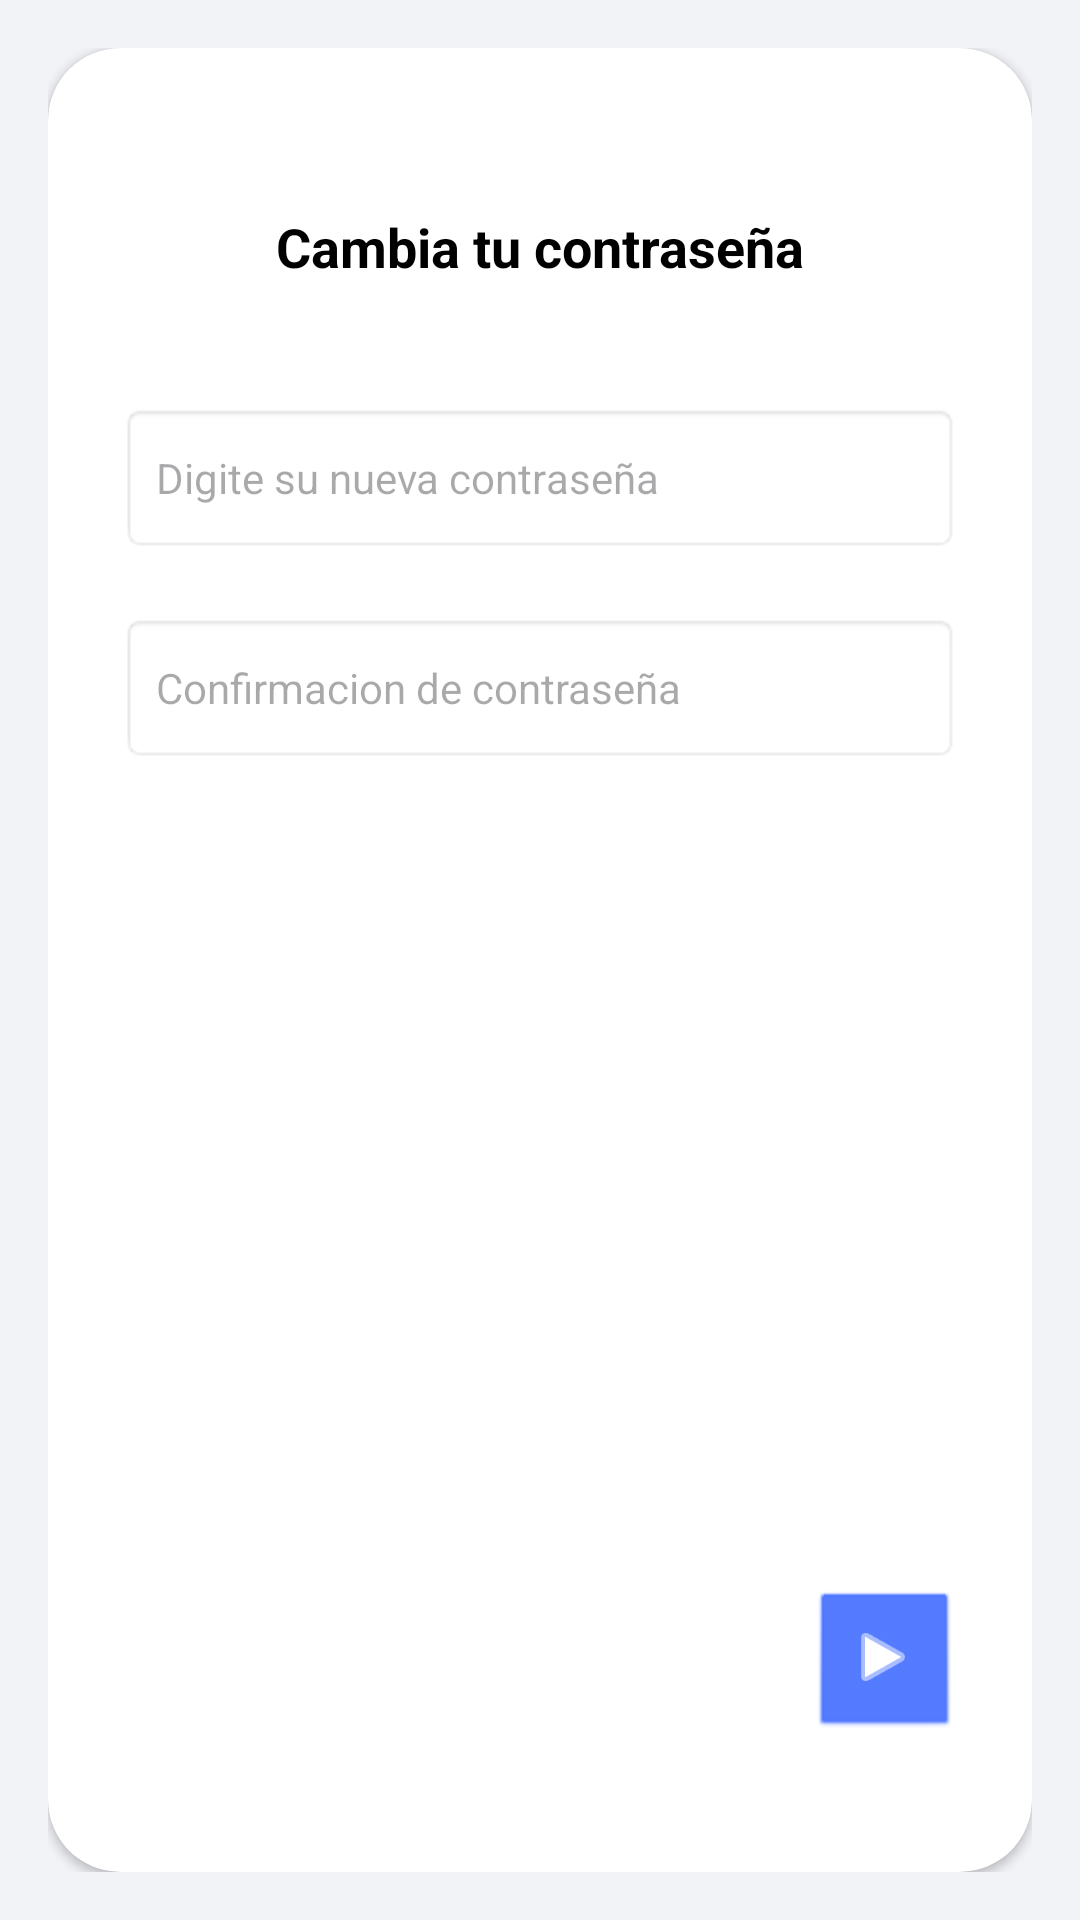

Icon bounding boxes for this 1080px×1920px phone screenshot, format bbox=[x1, y1, x2, y2]:
Siguiente: bbox=[861, 1633, 905, 1681]
